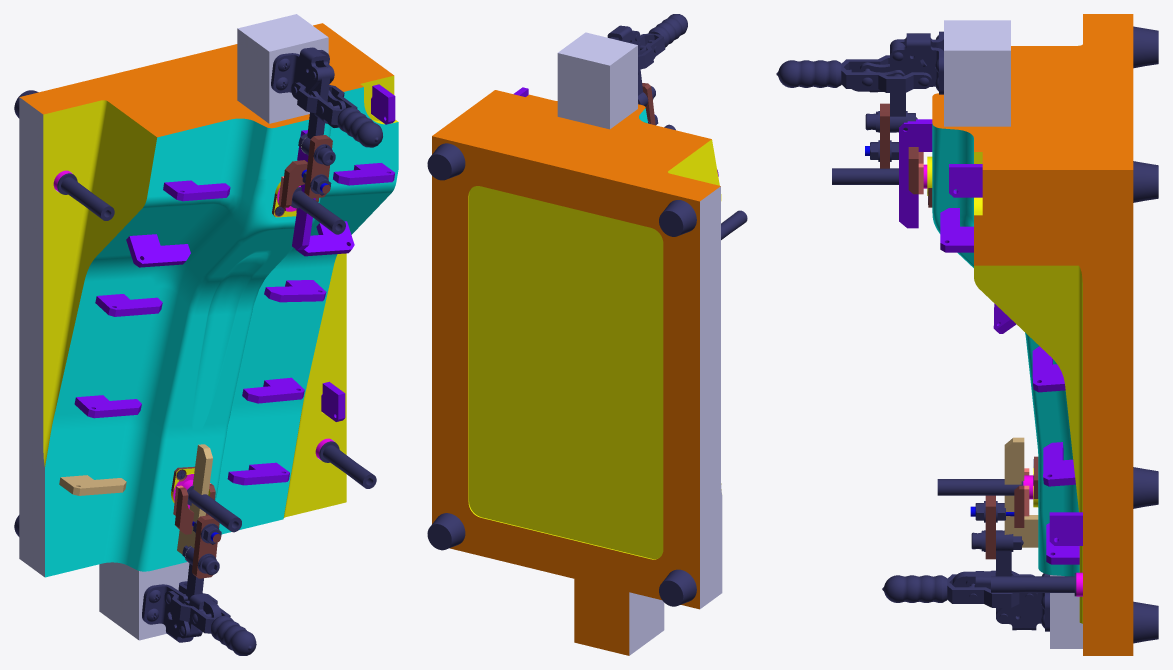
The model's file is HS145875_58225-48070_K00_260401_KEN.obj.
3 renders of one model, left to right at view 1: azimuth 30°, elevation 25°; view 2: azimuth 150°, elevation 25°; view 3: azimuth 270°, elevation 25°, orthographic. The views are drawn at different scales.
Visible parts, largest first — view 1: Shell_002, Shell_001, Shell_000, Shell_012, Shell_034, Shell_009, Shell_071, Shell_031, Shell_066, Shell_079, Shell_078, Shell_070 (+19 smaller); view 2: Shell_002, Shell_001, Shell_000, Shell_012, Shell_005, Shell_008, Shell_007, Shell_006; view 3: Shell_002, Shell_001, Shell_012, Shell_034, Shell_069, Shell_009, Shell_066, Shell_000, Shell_078, Shell_063, Shell_031, Shell_064 (+15 smaller).
Part boxes in pixels (bbox=[...]): Shell_002: bbox=[19, 23, 398, 577]; Shell_001: bbox=[237, 14, 328, 123]; Shell_000: bbox=[99, 562, 189, 640]; Shell_012: bbox=[291, 82, 382, 147]; Shell_034: bbox=[164, 591, 256, 655]; Shell_009: bbox=[271, 47, 334, 93]; Shell_071: bbox=[126, 234, 190, 267]; Shell_031: bbox=[142, 581, 202, 642]; Shell_066: bbox=[177, 444, 212, 554]; Shell_079: bbox=[53, 170, 114, 220]; Shell_078: bbox=[315, 438, 376, 488]; Shell_070: bbox=[95, 294, 162, 316]; Shell_002: bbox=[432, 90, 722, 609]; Shell_001: bbox=[557, 32, 637, 129]; Shell_000: bbox=[574, 579, 664, 655]; Shell_012: bbox=[638, 14, 687, 69]; Shell_005: bbox=[659, 569, 696, 606]; Shell_008: bbox=[427, 513, 465, 550]; Shell_007: bbox=[427, 143, 465, 180]; Shell_006: bbox=[659, 200, 696, 236]; Shell_002: bbox=[932, 14, 1133, 655]; Shell_001: bbox=[944, 20, 1010, 126]; Shell_012: bbox=[776, 55, 931, 92]; Shell_034: bbox=[882, 570, 1037, 607]; Shell_069: bbox=[899, 119, 932, 228]; Shell_009: bbox=[890, 31, 943, 94]; Shell_066: bbox=[1004, 437, 1038, 547]; Shell_000: bbox=[1050, 575, 1082, 648]; Shell_078: bbox=[991, 572, 1082, 596]; Shell_063: bbox=[937, 475, 1033, 499]; Shell_031: bbox=[996, 574, 1049, 631]; Shell_064: bbox=[832, 164, 927, 188].
Size of the model in its own units: 220 by 421 by 228.
